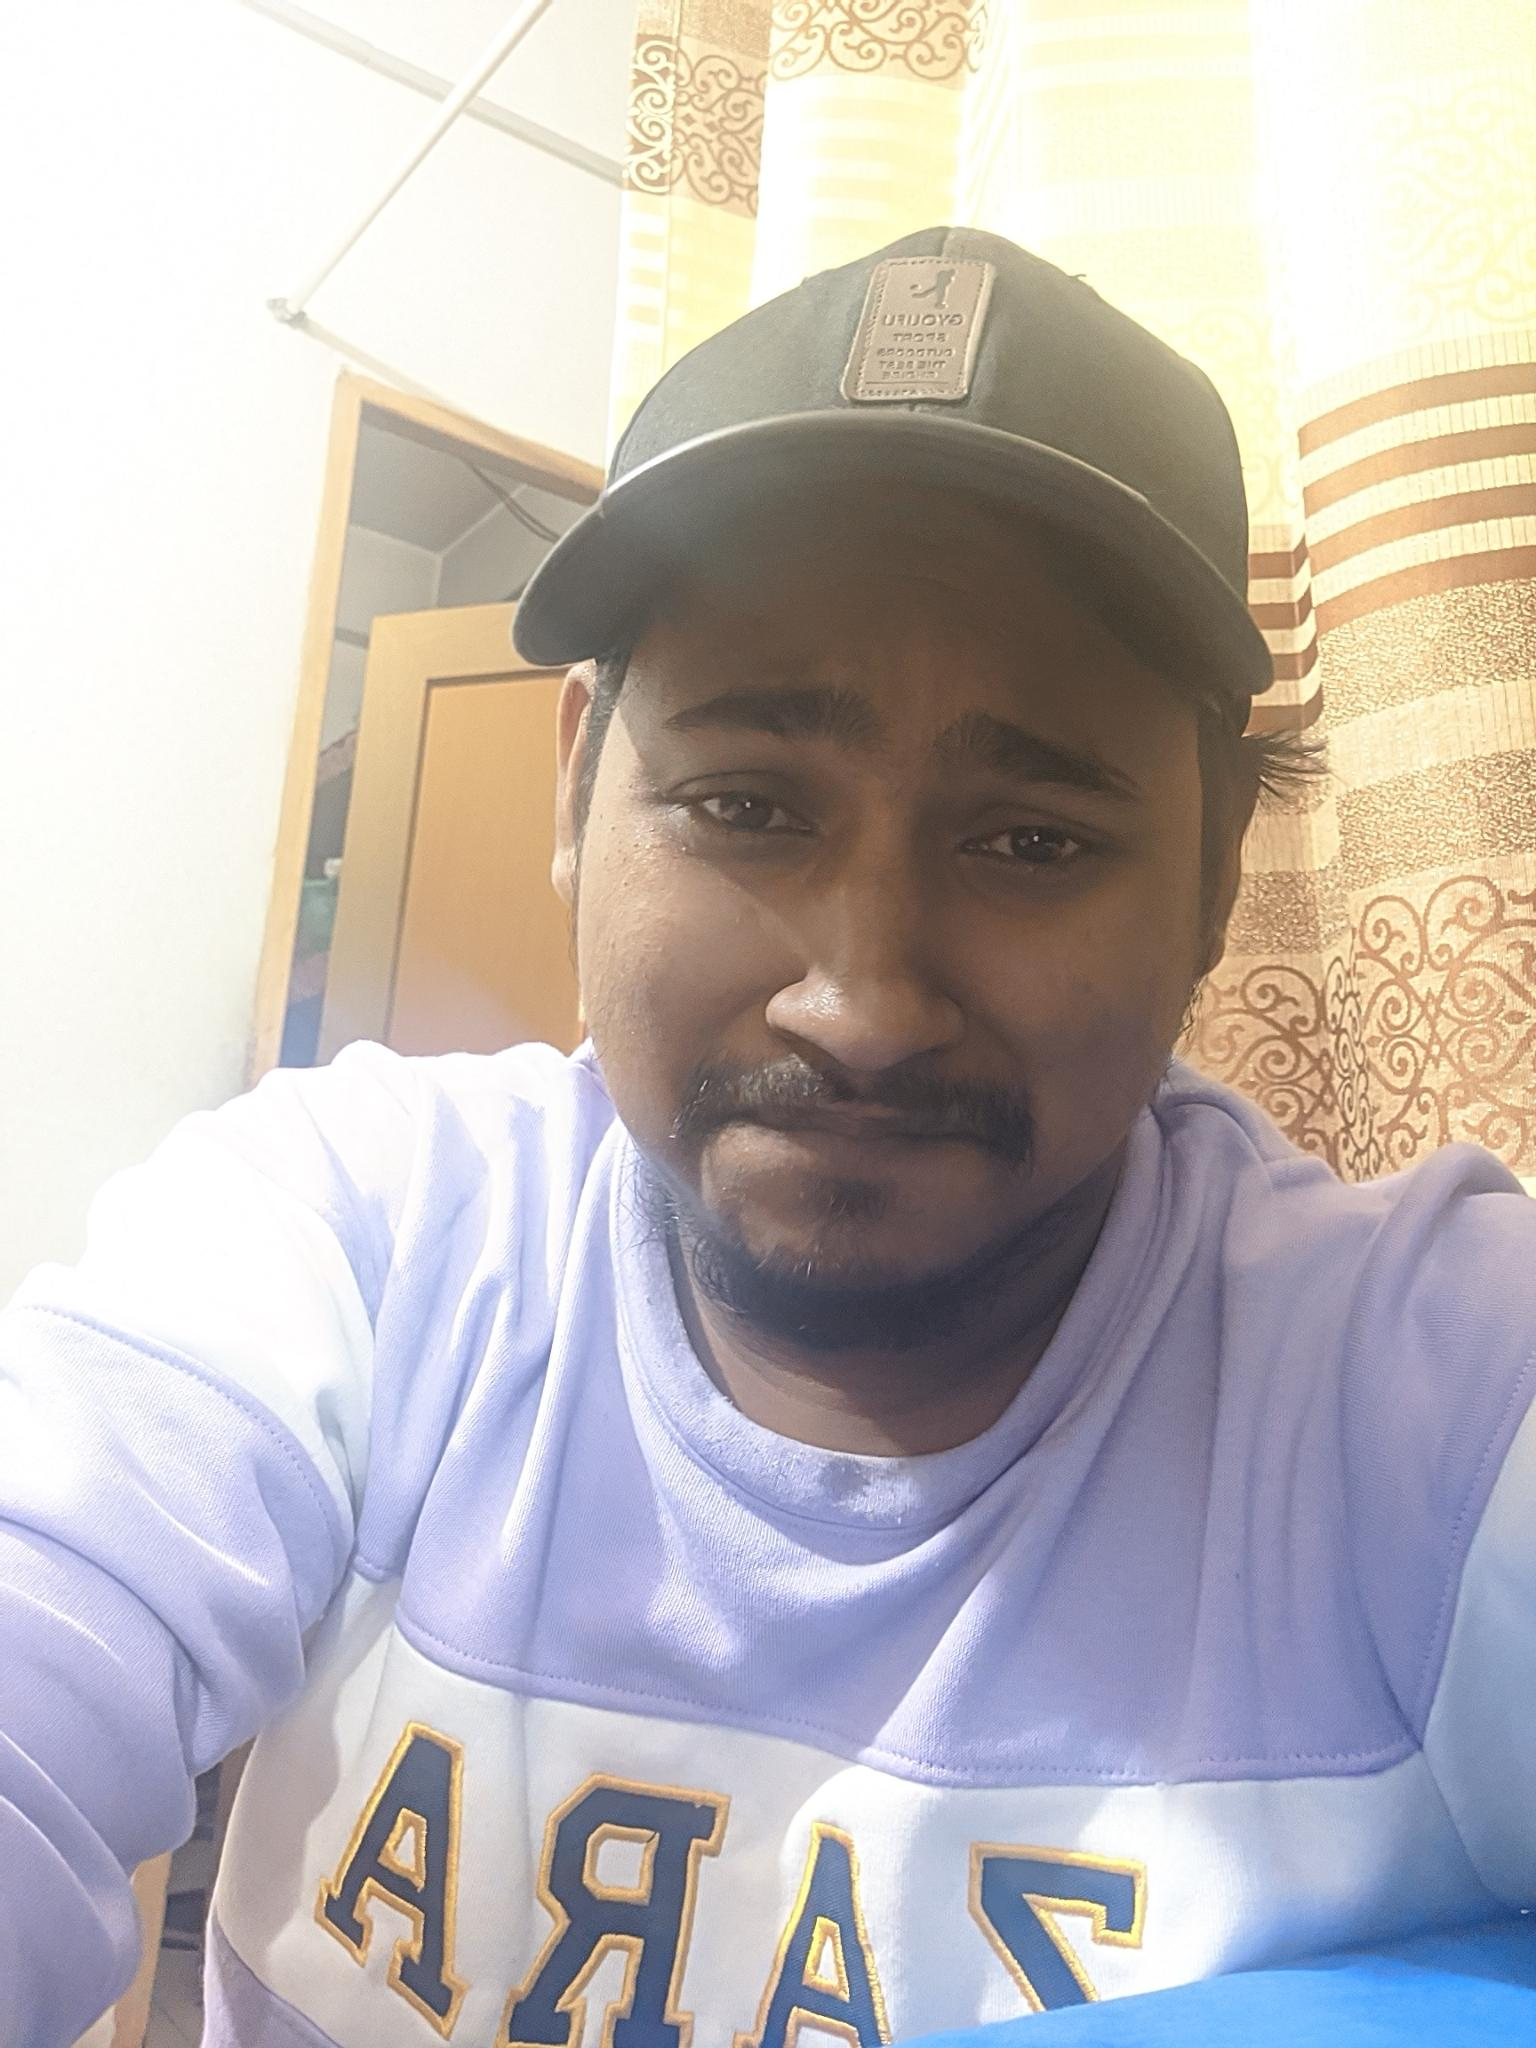Sad: (597, 619, 1176, 1321)
